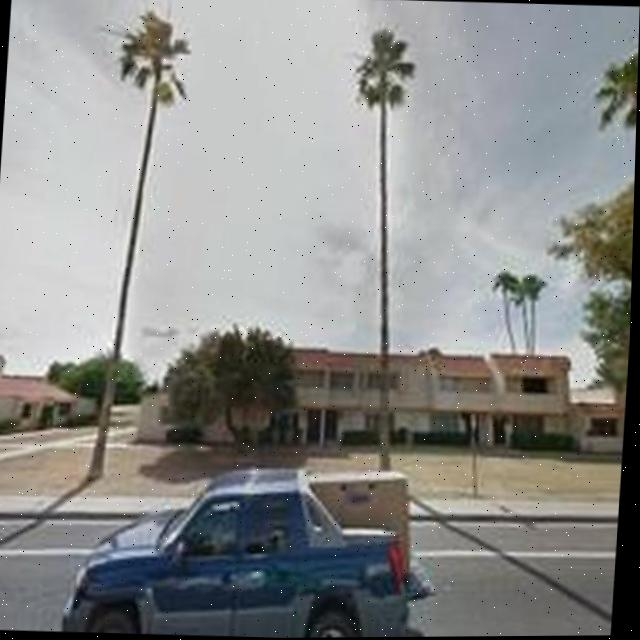building: (134, 333, 629, 466)
